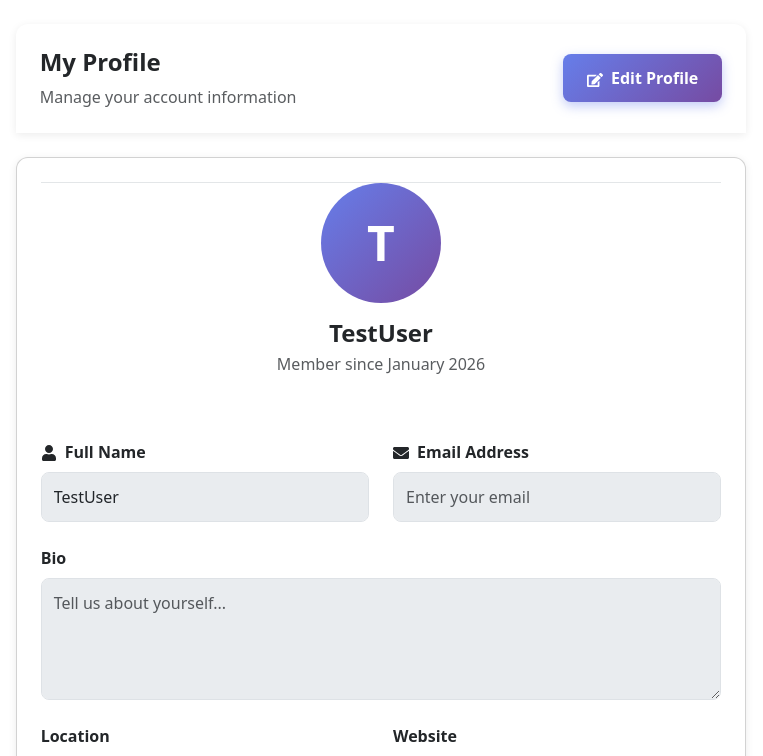
Profile Page › enters edit mode when Edit Profile button is clicked
What coordinates should you click on to do the following:
click the button "Edit Profile"
I would click on:
 (643, 78)
Its box is 563,54 -> 722,102.
(page scrolled)
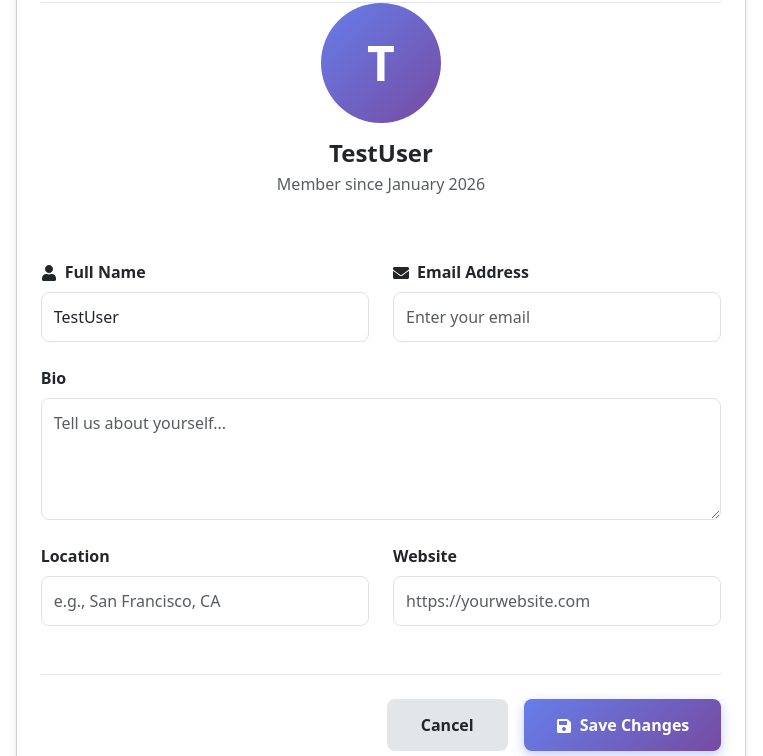
Expected: the button "Save Changes" is shown, 524,699 -> 721,751
Expected: the button "Cancel" is shown, 387,699 -> 508,751
